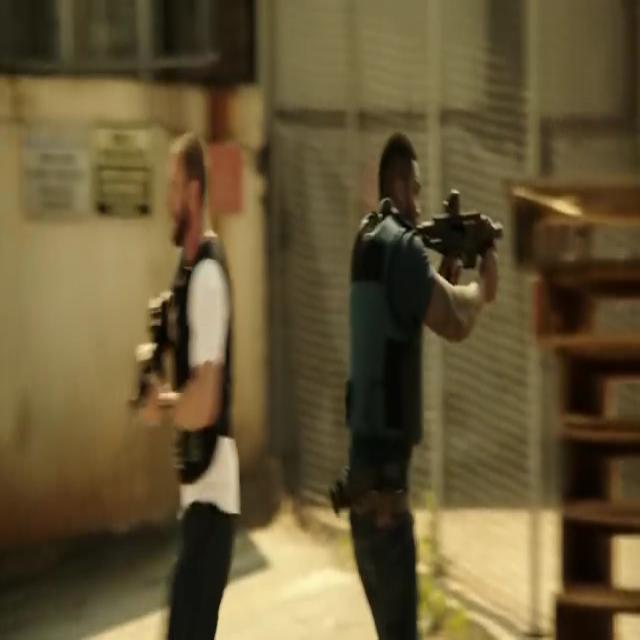Weapon: (389, 153, 509, 341), (123, 255, 215, 470)
